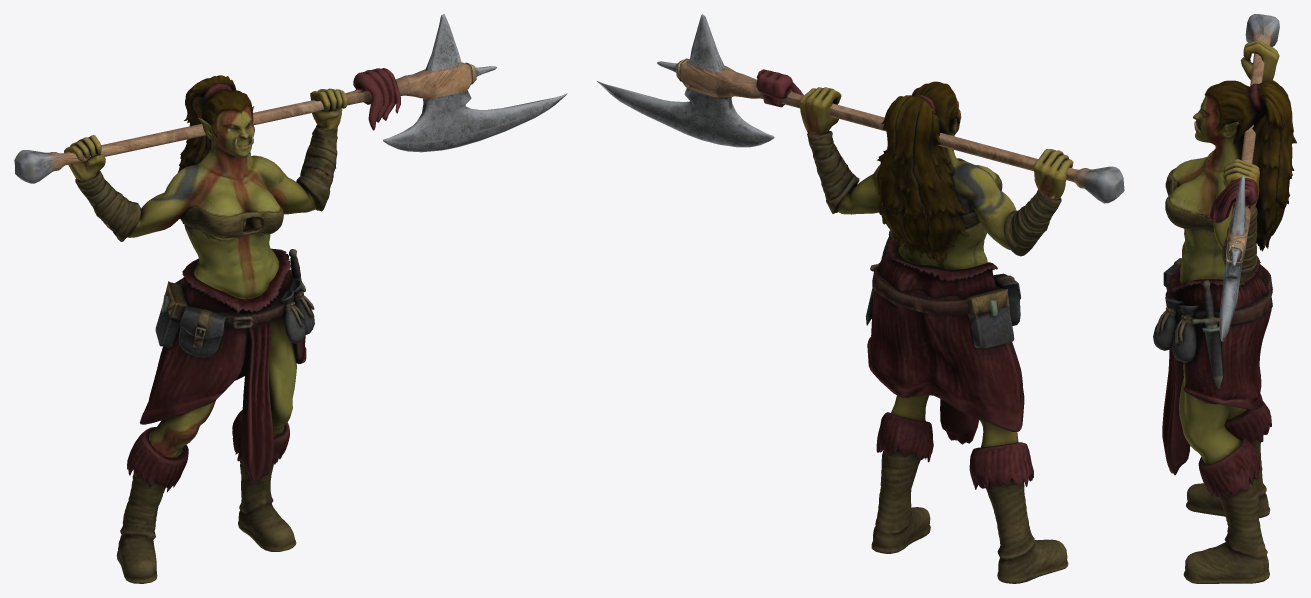
Rendered from MZ4250 - Half Orc Female Barbarian_red_WarriorAxe.glb.
3 renders of one model, left to right at view 1: azimuth 30°, elevation 25°; view 2: azimuth 150°, elevation 25°; view 3: azimuth 270°, elevation 25°, orthographic. The views are drawn at different scales.
Visible parts, largest first — view 1: Body.001; view 2: Body.001; view 3: Body.001.
Boxes of the visible parts, <box> form: Body.001: <box>14,14,567,583</box>; Body.001: <box>597,14,1124,583</box>; Body.001: <box>1153,14,1296,583</box>.
Size of the model in its own units: 49.97 by 42.51 by 11.15.
Materials: 2 (2 with a texture image).
